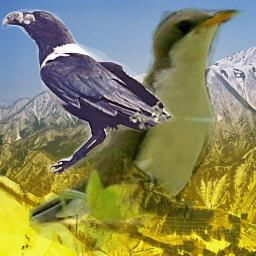Crow: (2, 9, 178, 174)
Cuckoo: (29, 2, 245, 256)
